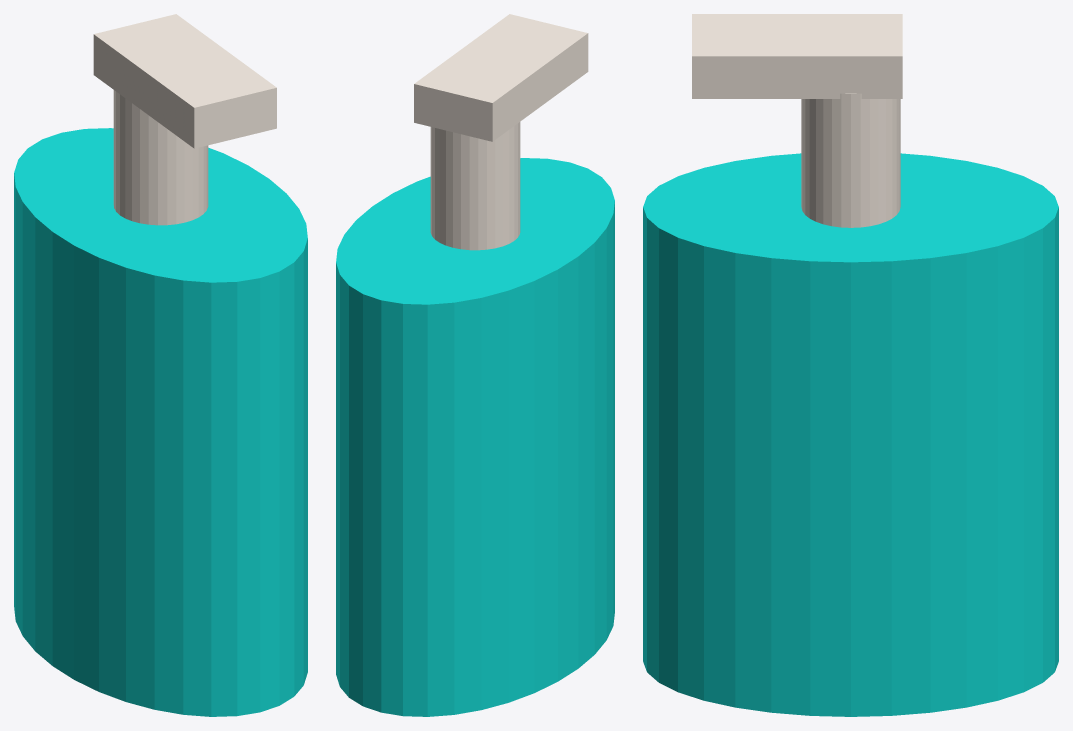
File: Alco.fbx
3 views of the same model, side by side, from view 1: azimuth 30°, elevation 25°; view 2: azimuth 150°, elevation 25°; view 3: azimuth 270°, elevation 25° (orthographic). The views are drawn at different scales.
Parts seen in each view (by area): view 1: Cylinder.002, Cylinder.001, Cylinder; view 2: Cylinder.002, Cylinder.001, Cylinder; view 3: Cylinder.002, Cylinder.001, Cylinder.
Part boxes in pixels (x1,y1,x2,y2): Cylinder.002: (14, 128, 307, 716); Cylinder.001: (93, 14, 276, 148); Cylinder: (113, 90, 208, 225); Cylinder.002: (336, 158, 614, 716); Cylinder.001: (414, 14, 588, 141); Cylinder: (430, 122, 520, 250); Cylinder.002: (643, 153, 1058, 716); Cylinder.001: (692, 14, 902, 98); Cylinder: (801, 93, 900, 227).
Size of the model in its own units: 195 by 513 by 309.
